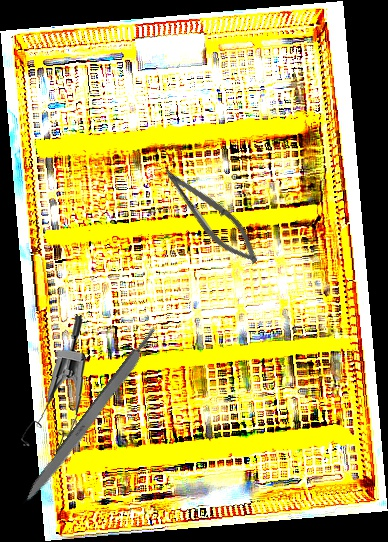Micro Scissor: (151, 161, 269, 272)
Scalpel Handle: (18, 325, 164, 510)
Speculum: (14, 315, 92, 459)
